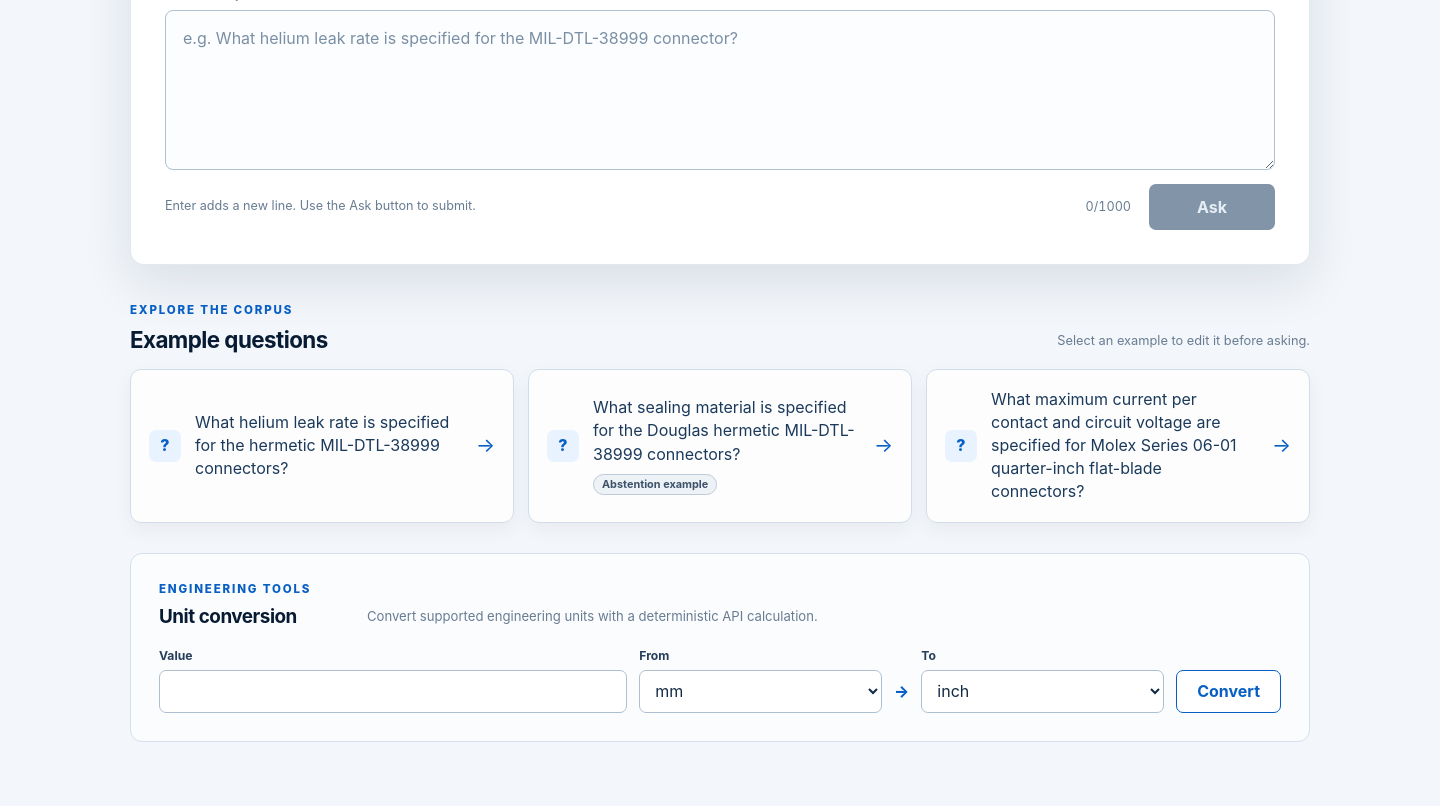
App › préremplit un exemple sans l'envoyer
(page scrolled)
Click the button "What helium leak rate is specified for the hermetic MIL-DTL-38999 connectors?".
click(322, 446)  # box [130,369,514,523]
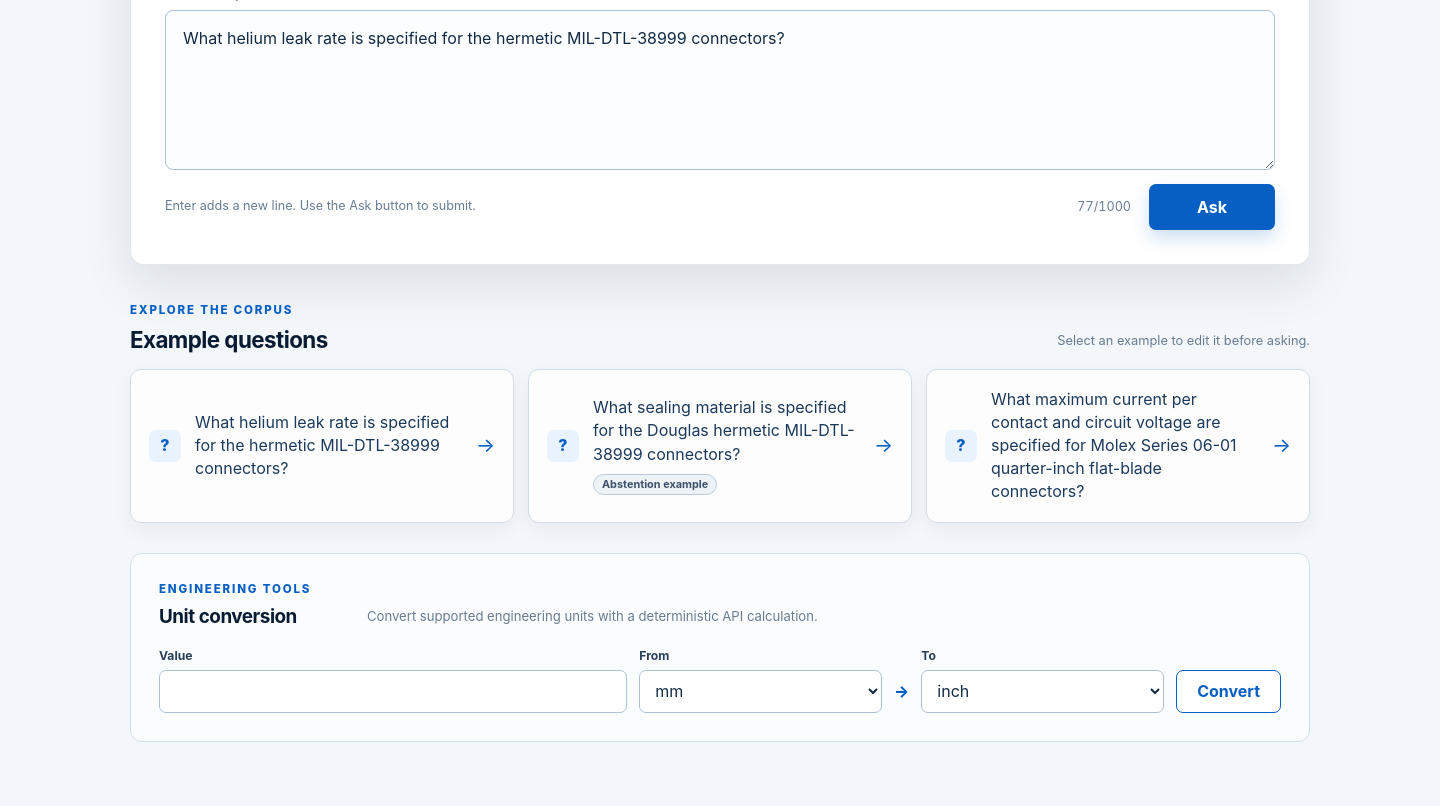
Expected: the text box labelled "Technical question" holds "What helium leak rate is specified for the hermetic MIL-DTL-38999 connectors?", [165,10,1275,170]
Expected: the button "Ask" is enabled, [1149,184,1275,230]
